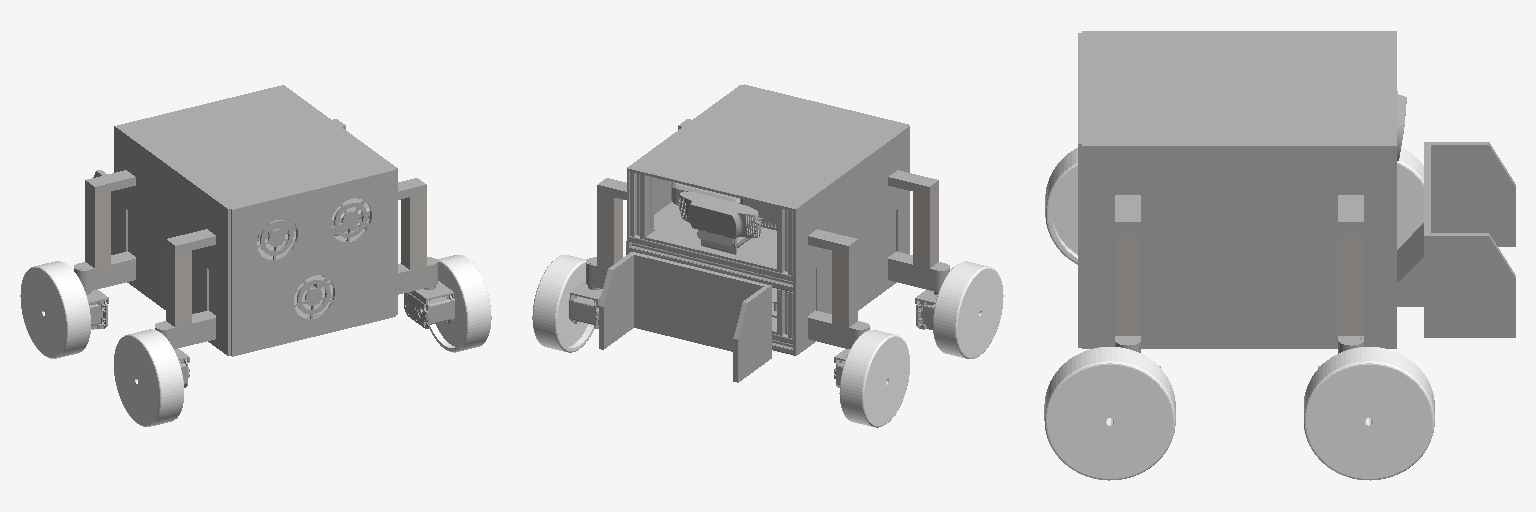
robot.urdf — Newmodel:
<?xml version="1.0" encoding="utf-8"?>
<!-- This URDF was automatically created by SolidWorks to URDF Exporter! Originally created by [author] ([email redacted]) 
     Commit Version: 1.5.1-0-g916b5db  Build Version: 1.5.7152.31018
     For more information, please see http://wiki.ros.org/sw_urdf_exporter -->
<robot
  name="Newmodel">
  <link
    name="base_link">
    <inertial>
      <origin
        xyz="-0.100576638998187 -0.131812557288457 0.0528922918632407"
        rpy="0 0 0" />
      <mass
        value="6.43009430721256" />
      <inertia
        ixx="0.0225206161803425"
        ixy="7.17735711667829E-07"
        ixz="3.36482640849362E-07"
        iyy="0.0143574314937999"
        iyz="-1.44491583273623E-05"
        izz="0.0229703699737285" />
    </inertial>
    <visual>
      <origin
        xyz="0 0 0"
        rpy="0 0 0" />
      <geometry>
        <mesh
          filename="package://Newmodel/meshes/base_link.STL" />
      </geometry>
      <material
        name="">
        <color
          rgba="0.752941176470588 0.752941176470588 0.752941176470588 1" />
      </material>
    </visual>
    <collision>
      <origin
        xyz="0 0 0"
        rpy="0 0 0" />
      <geometry>
        <mesh
          filename="package://Newmodel/meshes/base_link.STL" />
      </geometry>
    </collision>
  </link>
  <link
    name="RFW">
    <inertial>
      <origin
        xyz="0.017684 1.2627E-11 3.4505E-10"
        rpy="0 0 0" />
      <mass
        value="0.19359" />
      <inertia
        ixx="0.00025308"
        ixy="-1.3791E-23"
        ixz="4.8585E-21"
        iyy="0.00013682"
        iyz="1.2705E-21"
        izz="0.00013682" />
    </inertial>
    <visual>
      <origin
        xyz="0 0 0"
        rpy="0 0 0" />
      <geometry>
        <mesh
          filename="package://Newmodel/meshes/RFW.STL" />
      </geometry>
      <material
        name="">
        <color
          rgba="1 1 1 1" />
      </material>
    </visual>
    <collision>
      <origin
        xyz="0 0 0"
        rpy="0 0 0" />
      <geometry>
        <mesh
          filename="package://Newmodel/meshes/RFW.STL" />
      </geometry>
    </collision>
  </link>
  <joint
    name="RFW"
    type="continuous">
    <origin
      xyz="0.0717526295870665 -0.0213991318329796 -0.0348013967668192"
      rpy="1.60341860825238 0 0" />
    <parent
      link="base_link" />
    <child
      link="RFW" />
    <axis
      xyz="1 0 0" />
    <limit
      effort="3.1"
      velocity="7" />
  </joint>
  <link
    name="LFW">
    <inertial>
      <origin
        xyz="0.0176842754249037 3.18595691495283E-10 1.33117253331427E-10"
        rpy="0 0 0" />
      <mass
        value="0.193585420779862" />
      <inertia
        ixx="0.000253081141332254"
        ixy="2.78237503522264E-19"
        ixz="1.01289029826784E-19"
        iyy="0.000136818598566517"
        iyz="0"
        izz="0.000136818598566517" />
    </inertial>
    <visual>
      <origin
        xyz="0 0 0"
        rpy="0 0 0" />
      <geometry>
        <mesh
          filename="package://Newmodel/meshes/LFW.STL" />
      </geometry>
      <material
        name="">
        <color
          rgba="1 1 1 1" />
      </material>
    </visual>
    <collision>
      <origin
        xyz="0 0 0"
        rpy="0 0 0" />
      <geometry>
        <mesh
          filename="package://Newmodel/meshes/LFW.STL" />
      </geometry>
    </collision>
  </link>
  <joint
    name="LFW"
    type="continuous">
    <origin
      xyz="-0.271747370412951 -0.0213991318329767 -0.034802969642082"
      rpy="-0.39179641218951 0 3.14159265358979" />
    <parent
      link="base_link" />
    <child
      link="LFW" />
    <axis
      xyz="1 0 0" />
    <limit
      effort="3.1"
      velocity="7" />
  </joint>
  <link
    name="RBW">
    <inertial>
      <origin
        xyz="0.017684 -1.2207E-10 3.2299E-10"
        rpy="0 0 0" />
      <mass
        value="0.19359" />
      <inertia
        ixx="0.00025308"
        ixy="-5.5486E-22"
        ixz="8.0309E-21"
        iyy="0.00013682"
        iyz="0"
        izz="0.00013682" />
    </inertial>
    <visual>
      <origin
        xyz="0 0 0"
        rpy="0 0 0" />
      <geometry>
        <mesh
          filename="package://Newmodel/meshes/RBW.STL" />
      </geometry>
      <material
        name="">
        <color
          rgba="1 1 1 1" />
      </material>
    </visual>
    <collision>
      <origin
        xyz="0 0 0"
        rpy="0 0 0" />
      <geometry>
        <mesh
          filename="package://Newmodel/meshes/RBW.STL" />
      </geometry>
    </collision>
  </link>
  <joint
    name="RBW"
    type="continuous">
    <origin
      xyz="0.0717526295870657 -0.218599131832979 -0.0348029696420729"
      rpy="1.20549109022013 0 0" />
    <parent
      link="base_link" />
    <child
      link="RBW" />
    <axis
      xyz="1 0 0" />
    <limit
      effort="3.1"
      velocity="7" />
  </joint>
  <link
    name="LBW">
    <inertial>
      <origin
        xyz="0.0176842754249227 3.18593207371265E-10 1.33117600276123E-10"
        rpy="0 0 0" />
      <mass
        value="0.193585420779862" />
      <inertia
        ixx="0.000253081141332254"
        ixy="1.8197108462484E-20"
        ixz="-6.03994600633977E-21"
        iyy="0.000136818598566517"
        iyz="-1.35525271560688E-20"
        izz="0.000136818598566517" />
    </inertial>
    <visual>
      <origin
        xyz="0 0 0"
        rpy="0 0 0" />
      <geometry>
        <mesh
          filename="package://Newmodel/meshes/LBW.STL" />
      </geometry>
      <material
        name="">
        <color
          rgba="1 1 1 1" />
      </material>
    </visual>
    <collision>
      <origin
        xyz="0 0 0"
        rpy="0 0 0" />
      <geometry>
        <mesh
          filename="package://Newmodel/meshes/LBW.STL" />
      </geometry>
    </collision>
  </link>
  <joint
    name="LBW"
    type="continuous">
    <origin
      xyz="-0.271747370412932 -0.217999131832978 -0.0348013967668293"
      rpy="-0.391796412189507 0 3.14159265358979" />
    <parent
      link="base_link" />
    <child
      link="LBW" />
    <axis
      xyz="1 0 0" />
    <limit
      effort="3.1"
      velocity="7" />
  </joint>
  <link
    name="RFS">
    <inertial>
      <origin
        xyz="-3.4528E-10 1.0148E-12 -0.0425"
        rpy="0 0 0" />
      <mass
        value="0.2618" />
      <inertia
        ixx="0.00016635"
        ixy="-3.269E-22"
        ixz="1.8908E-20"
        iyy="0.00016635"
        iyz="-2.5289E-19"
        izz="1.7453E-05" />
    </inertial>
    <visual>
      <origin
        xyz="0 0 0"
        rpy="0 0 0" />
      <geometry>
        <mesh
          filename="package://Newmodel/meshes/RFS.STL" />
      </geometry>
      <material
        name="">
        <color
          rgba="0.77647 0.75686 0.73725 1" />
      </material>
    </visual>
    <collision>
      <origin
        xyz="0 0 0"
        rpy="0 0 0" />
      <geometry>
        <mesh
          filename="package://Newmodel/meshes/RFS.STL" />
      </geometry>
    </collision>
  </link>
  <joint
    name="RFS"
    type="fixed">
    <origin
      xyz="0.0430026295870576 -0.0349991318329793 0.0149978167955517"
      rpy="-3.14159265358979 0 1.5707963267949" />
    <parent
      link="base_link" />
    <child
      link="RFS" />
    <axis
      xyz="0 0 0" />
  </joint>
  <link
    name="LFS">
    <inertial>
      <origin
        xyz="1.0144E-12 3.4529E-10 0.0425"
        rpy="0 0 0" />
      <mass
        value="0.2618" />
      <inertia
        ixx="0.00016635"
        ixy="2.5265E-21"
        ixz="-1.0151E-19"
        iyy="0.00016635"
        iyz="1.4542E-20"
        izz="1.7453E-05" />
    </inertial>
    <visual>
      <origin
        xyz="0 0 0"
        rpy="0 0 0" />
      <geometry>
        <mesh
          filename="package://Newmodel/meshes/LFS.STL" />
      </geometry>
      <material
        name="">
        <color
          rgba="0.77647 0.75686 0.73725 1" />
      </material>
    </visual>
    <collision>
      <origin
        xyz="0 0 0"
        rpy="0 0 0" />
      <geometry>
        <mesh
          filename="package://Newmodel/meshes/LFS.STL" />
      </geometry>
    </collision>
  </link>
  <joint
    name="LFS"
    type="fixed">
    <origin
      xyz="-0.242997370412942 -0.0349991318329757 0.0999978167955465"
      rpy="3.14159265358979 0 0" />
    <parent
      link="base_link" />
    <child
      link="LFS" />
    <axis
      xyz="0 0 0" />
  </joint>
  <link
    name="RBS">
    <inertial>
      <origin
        xyz="3.4528210846041E-10 -1.01482711123424E-12 -0.0425000000013679"
        rpy="0 0 0" />
      <mass
        value="0.2618" />
      <inertia
        ixx="0.000166352083333333"
        ixy="-2.77173364497301E-21"
        ixz="-2.04287491693265E-20"
        iyy="0.000166352083333333"
        iyz="-1.31136433098067E-20"
        izz="1.74533333333334E-05" />
    </inertial>
    <visual>
      <origin
        xyz="0 0 0"
        rpy="0 0 0" />
      <geometry>
        <mesh
          filename="package://Newmodel/meshes/RBS.STL" />
      </geometry>
      <material
        name="">
        <color
          rgba="0.776470588235294 0.756862745098039 0.737254901960784 1" />
      </material>
    </visual>
    <collision>
      <origin
        xyz="0 0 0"
        rpy="0 0 0" />
      <geometry>
        <mesh
          filename="package://Newmodel/meshes/RBS.STL" />
      </geometry>
    </collision>
  </link>
  <joint
    name="RBS"
    type="fixed">
    <origin
      xyz="0.043003 -0.205 0.014998"
      rpy="-3.1416 0 -1.5708" />
    <parent
      link="base_link" />
    <child
      link="RBS" />
    <axis
      xyz="0 0 0" />
  </joint>
  <link
    name="LBS">
    <inertial>
      <origin
        xyz="1.014E-12 3.4529E-10 0.0425"
        rpy="0 0 0" />
      <mass
        value="0.2618" />
      <inertia
        ixx="0.00016635"
        ixy="-5.6576E-21"
        ixz="1.4959E-18"
        iyy="0.00016635"
        iyz="2.036E-20"
        izz="1.7453E-05" />
    </inertial>
    <visual>
      <origin
        xyz="0 0 0"
        rpy="0 0 0" />
      <geometry>
        <mesh
          filename="package://Newmodel/meshes/LBS.STL" />
      </geometry>
      <material
        name="">
        <color
          rgba="0.77647 0.75686 0.73725 1" />
      </material>
    </visual>
    <collision>
      <origin
        xyz="0 0 0"
        rpy="0 0 0" />
      <geometry>
        <mesh
          filename="package://Newmodel/meshes/LBS.STL" />
      </geometry>
    </collision>
  </link>
  <joint
    name="LBS"
    type="fixed">
    <origin
      xyz="-0.243 -0.205 0.099998"
      rpy="3.1416 0 0" />
    <parent
      link="base_link" />
    <child
      link="LBS" />
    <axis
      xyz="0 0 0" />
  </joint>
  <link
    name="Camera">
    <inertial>
      <origin
        xyz="-0.023886 -0.025501 0.093335"
        rpy="0 0 0" />
      <mass
        value="0.084224" />
      <inertia
        ixx="1.3967E-05"
        ixy="-8.8168E-10"
        ixz="-1.0104E-09"
        iyy="3.6726E-05"
        iyz="-1.5151E-06"
        izz="3.0115E-05" />
    </inertial>
    <visual>
      <origin
        xyz="0 0 0"
        rpy="0 0 0" />
      <geometry>
        <mesh
          filename="package://Newmodel/meshes/Camera.STL" />
      </geometry>
      <material
        name="">
        <color
          rgba="0.75294 0.75294 0.75294 1" />
      </material>
    </visual>
    <collision>
      <origin
        xyz="0 0 0"
        rpy="0 0 0" />
      <geometry>
        <mesh
          filename="package://Newmodel/meshes/Camera.STL" />
      </geometry>
    </collision>
  </link>
  <joint
    name="Camera"
    type="fixed">
    <origin
      xyz="-0.13188 -0.10697 0.14474"
      rpy="1.7188 0 3.1056" />
    <parent
      link="base_link" />
    <child
      link="Camera" />
    <axis
      xyz="0 0 0" />
  </joint>
  <link
    name="RPLidar">
    <inertial>
      <origin
        xyz="0 0 0"
        rpy="0 0 0" />
      <mass
        value="0" />
      <inertia
        ixx="0"
        ixy="0"
        ixz="0"
        iyy="0"
        iyz="0"
        izz="0" />
    </inertial>
    <visual>
      <origin
        xyz="0 0 0"
        rpy="0 0 0" />
      <geometry>
        <mesh
          filename="package://Newmodel/meshes/RPLidar.STL" />
      </geometry>
      <material
        name="">
        <color
          rgba="1 1 1 1" />
      </material>
    </visual>
    <collision>
      <origin
        xyz="0 0 0"
        rpy="0 0 0" />
      <geometry>
        <mesh
          filename="package://Newmodel/meshes/RPLidar.STL" />
      </geometry>
    </collision>
  </link>
  <joint
    name="RPLidar"
    type="fixed">
    <origin
      xyz="-0.23716 0.016589 -0.56869"
      rpy="1.5708 0 1.5973" />
    <parent
      link="base_link" />
    <child
      link="RPLidar" />
    <axis
      xyz="0 0 0" />
  </joint>
</robot>

--- Render facts (derived) ---
Views: 3 orthographic renders of the robot side by side, from view 1: azimuth 30°, elevation 25°; view 2: azimuth 150°, elevation 25°; view 3: azimuth 270°, elevation 25°.
Model Newmodel with 11 links and 10 joints (4 continuous, 6 fixed), rooted at base_link, posed every joint at zero.
Links seen in each view (by area): view 1: base_link, LFW, LBW, RBW, LFS, LBS, RBS; view 2: base_link, LFW, LBW, RFW, Camera, LBS, LFS, RFS; view 3: base_link, RBW, RFW, LBW, RFS, RBS, LFW.
Boxes of the visible links, <box> form: base_link: <box>74,85,454,387</box>; LFW: <box>20,261,90,358</box>; LBW: <box>114,329,183,426</box>; RBW: <box>429,255,491,352</box>; LFS: <box>85,189,110,267</box>; LBS: <box>166,248,191,327</box>; RBS: <box>401,193,426,269</box>; base_link: <box>569,84,949,387</box>; LFW: <box>839,330,909,427</box>; LBW: <box>933,261,1003,358</box>; RFW: <box>532,255,594,352</box>; Camera: <box>679,191,760,254</box>; LBS: <box>913,189,938,268</box>; LFS: <box>832,248,857,327</box>; RFS: <box>597,193,622,268</box>; base_link: <box>1078,31,1515,367</box>; RBW: <box>1044,347,1175,480</box>; RFW: <box>1304,347,1434,480</box>; LBW: <box>1045,148,1077,264</box>; RFS: <box>1338,234,1363,335</box>; RBS: <box>1115,234,1140,335</box>; LFW: <box>1397,147,1423,249</box>.
Bounding box of the posed robot: 0.4035 × 0.3586 × 0.2358 m (x, y, z).
Meshes: 11 distinct files referenced, 10 mesh visuals loaded (10 binary STL); not drawn: 1 (reference not matched to a file when rendering).